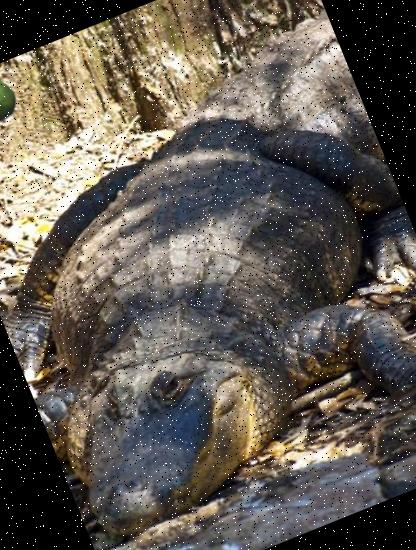Mango: (0, 66, 23, 134)
